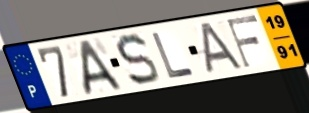7: (35, 45, 70, 100)
A: (80, 38, 125, 98), (198, 20, 246, 76)
F: (225, 13, 263, 70)
L: (149, 30, 197, 80)
S: (114, 32, 162, 88)
